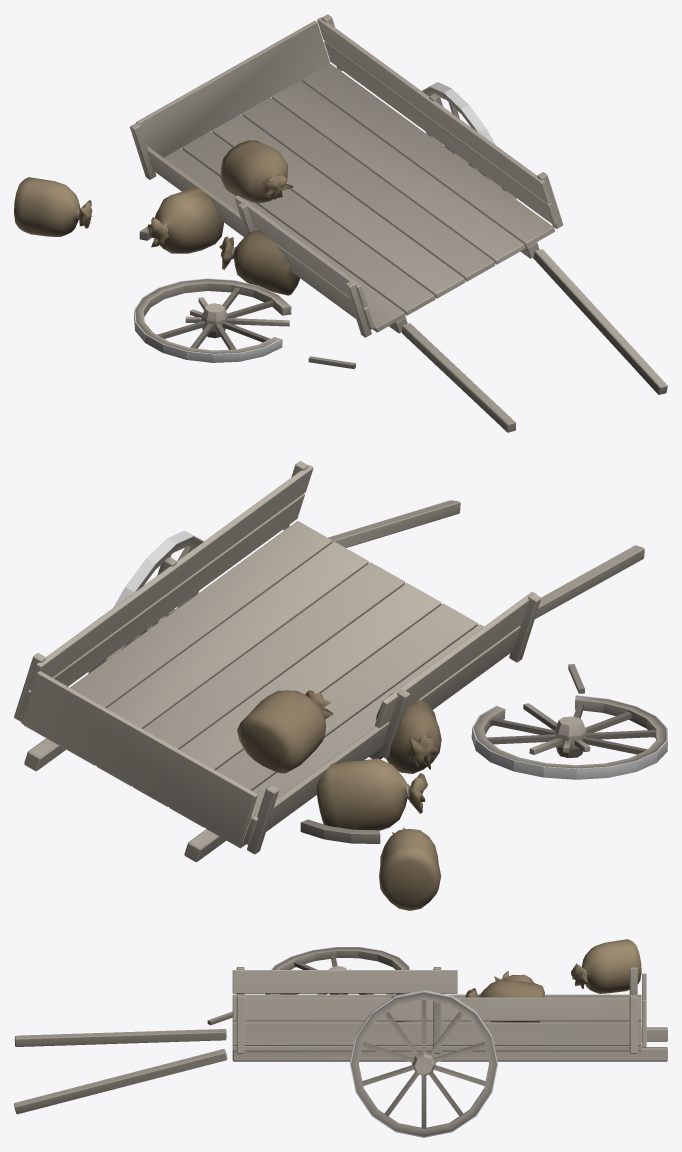
Rendered from wagon.glb.
3 renders of one model, top to bottom at view 1: azimuth 30°, elevation 25°; view 2: azimuth 150°, elevation 25°; view 3: azimuth 270°, elevation 25°, orthographic. The views are drawn at different scales.
Parts seen in each view (by area): view 1: wagon; view 2: wagon; view 3: wagon.
Boxes of the visible parts, box(x1,y1,x2,y2) form: wagon: box(14, 14, 667, 432); wagon: box(14, 461, 667, 910); wagon: box(14, 939, 667, 1137).
Size of what is drawn, in the model's own units: 3.16 by 1.17 by 4.96.
